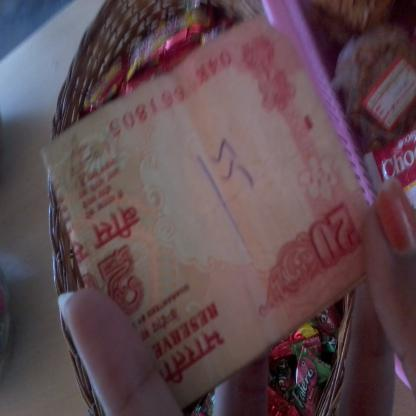Old20Front: (56, 29, 370, 382)
